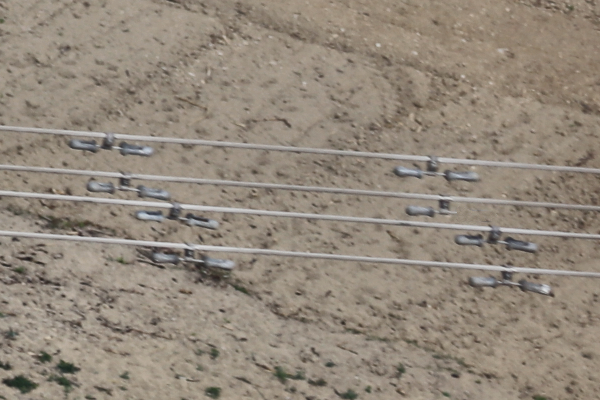damper: (392, 151, 483, 185), (466, 261, 552, 296), (450, 223, 539, 255), (83, 168, 171, 200), (151, 241, 239, 272), (65, 129, 154, 158)
damper_defect: (134, 199, 220, 231), (403, 192, 462, 218)
